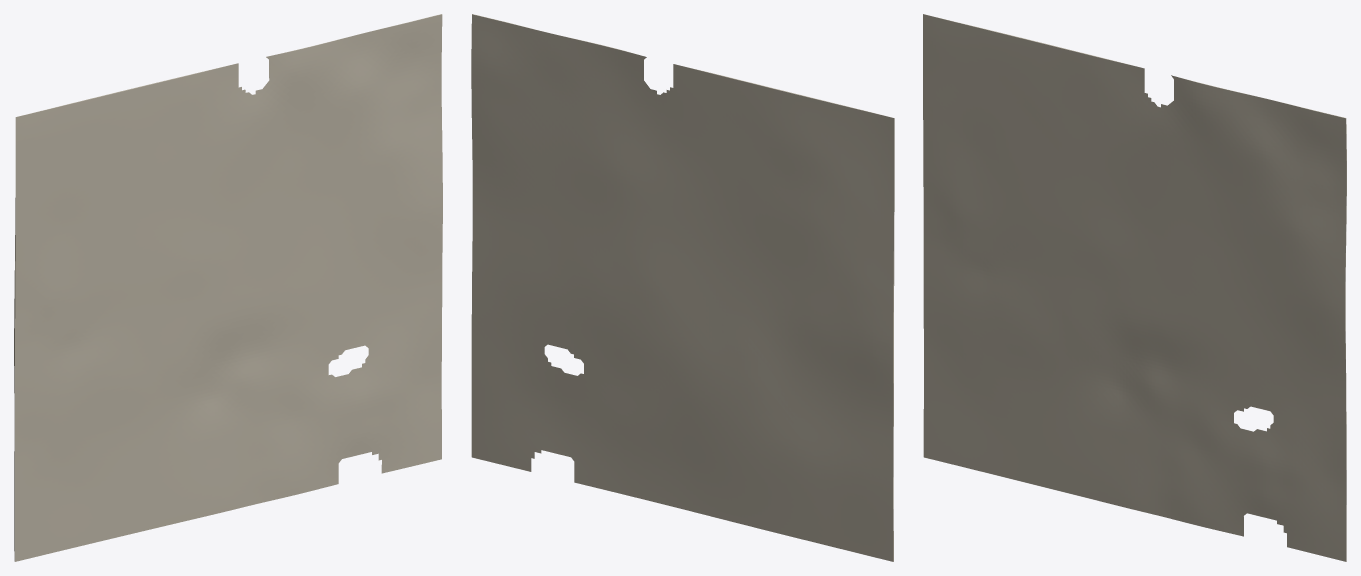
The model's file is L01_shell.glb.
3 views of the same model, side by side, from view 1: azimuth 30°, elevation 25°; view 2: azimuth 150°, elevation 25°; view 3: azimuth 330°, elevation 25° (orthographic).
Visible parts, largest first — view 1: world; view 2: world; view 3: world.
Boxes of the visible parts, bbox=[...] form: world: bbox=[14, 14, 442, 561]; world: bbox=[471, 14, 894, 561]; world: bbox=[923, 14, 1346, 561].
Bounding box in the file's own units: 12800 × 12800 × 188.
